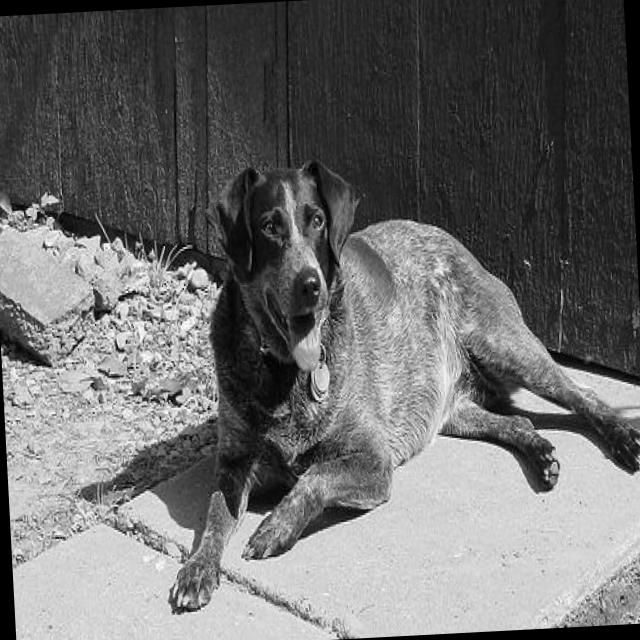laying down: (139, 130, 640, 613)
